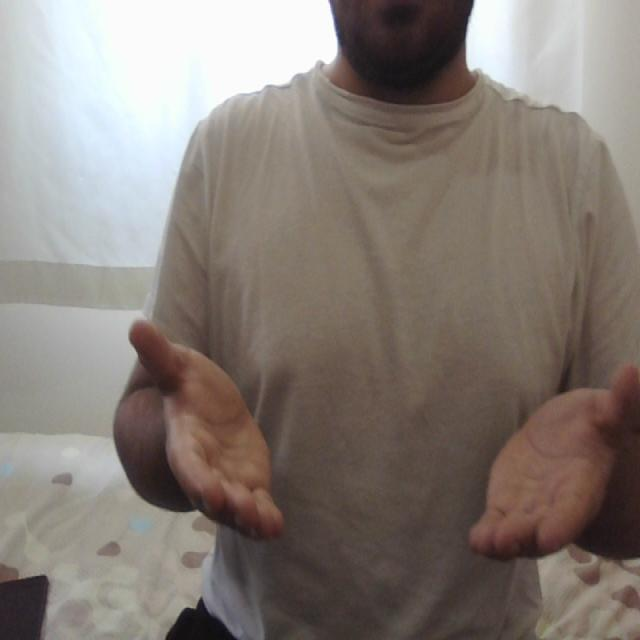Evet: (122, 314, 640, 569)
